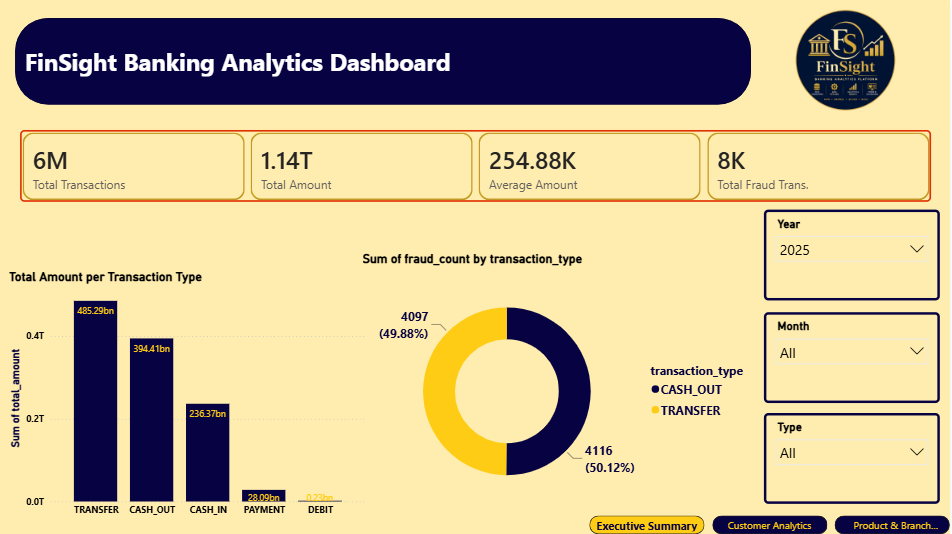

What the dashboard file says about the page in this screenshot:
{"tool":"powerbi","page":{"name":"Executive Summary","canvas":[1280,720],"ordinal":0},"visuals":[{"type":"shape","box":[23.3,25,990,116.7],"z":0},{"type":"cardVisual","fields":{"Data":["Sum(vw_gold_transaction_summary.transaction_count)","Sum(vw_gold_transaction_summary.total_amount)","Avg(vw_gold_transaction_summary.average_amount)","Sum(vw_gold_transaction_summary.fraud_count)"]},"box":[10.1,156.2,1269.9,137.7],"z":1000},{"type":"clusteredColumnChart","title":"Total Amount per Transaction Type","fields":{"Category":["vw_gold_transaction_summary.transaction_type"],"Y":["Sum(vw_gold_transaction_summary.total_amount)"]},"box":[9.3,364.9,489,355.7],"z":2000},{"type":"donutChart","fields":{"Y":["Sum(vw_gold_transaction_summary.fraud_count)"],"Category":["vw_gold_transaction_summary.transaction_type"]},"box":[485,340,545,355],"z":3000},{"type":"slicer","fields":{"Values":["vw_gold_transaction_summary.transaction_year","vw_gold_transaction_summary.transaction_month"]},"box":[1030,283.3,236.7,121.7],"z":4000},{"type":"slicer","fields":{"Values":["vw_gold_transaction_summary.transaction_month"]},"box":[1030,421.7,236.7,121.7],"z":5000},{"type":"slicer","fields":{"Values":["vw_gold_transaction_summary.transaction_type"]},"box":[1030,556.7,236.7,121.7],"z":6000},{"type":"image","box":[1013.3,15,253.3,135],"z":7000},{"type":"pageNavigator","box":[795,695,485,25],"z":8000}]}

Visuals, with their boxes in screenshot pixels (x1, y1, x2, y2), scaled from the page's 1280x720 canvas onto the 952x534 screenshot:
shape: {"x1": 17, "y1": 19, "x2": 754, "y2": 105}
cardVisual - Sum(vw_gold_transaction_summary.transaction_count) x Sum(vw_gold_transaction_summary.total_amount): {"x1": 8, "y1": 116, "x2": 951, "y2": 218}
"Total Amount per Transaction Type" clusteredColumnChart: {"x1": 7, "y1": 271, "x2": 371, "y2": 533}
donutChart - Sum(vw_gold_transaction_summary.fraud_count) x vw_gold_transaction_summary.transaction_type: {"x1": 361, "y1": 252, "x2": 766, "y2": 515}
slicer - vw_gold_transaction_summary.transaction_year x vw_gold_transaction_summary.transaction_month: {"x1": 766, "y1": 210, "x2": 942, "y2": 300}
slicer - vw_gold_transaction_summary.transaction_month: {"x1": 766, "y1": 313, "x2": 942, "y2": 403}
slicer - vw_gold_transaction_summary.transaction_type: {"x1": 766, "y1": 413, "x2": 942, "y2": 503}
image: {"x1": 754, "y1": 11, "x2": 942, "y2": 111}
pageNavigator: {"x1": 591, "y1": 515, "x2": 951, "y2": 533}
